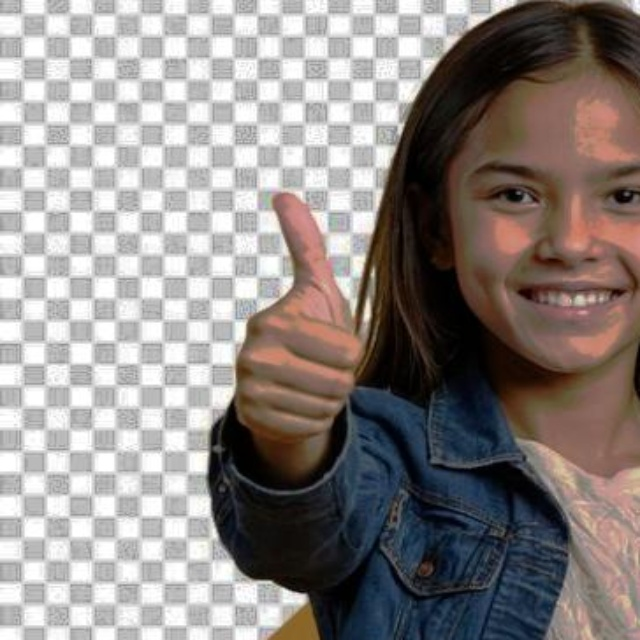thumbs_up: (225, 187, 369, 453)
